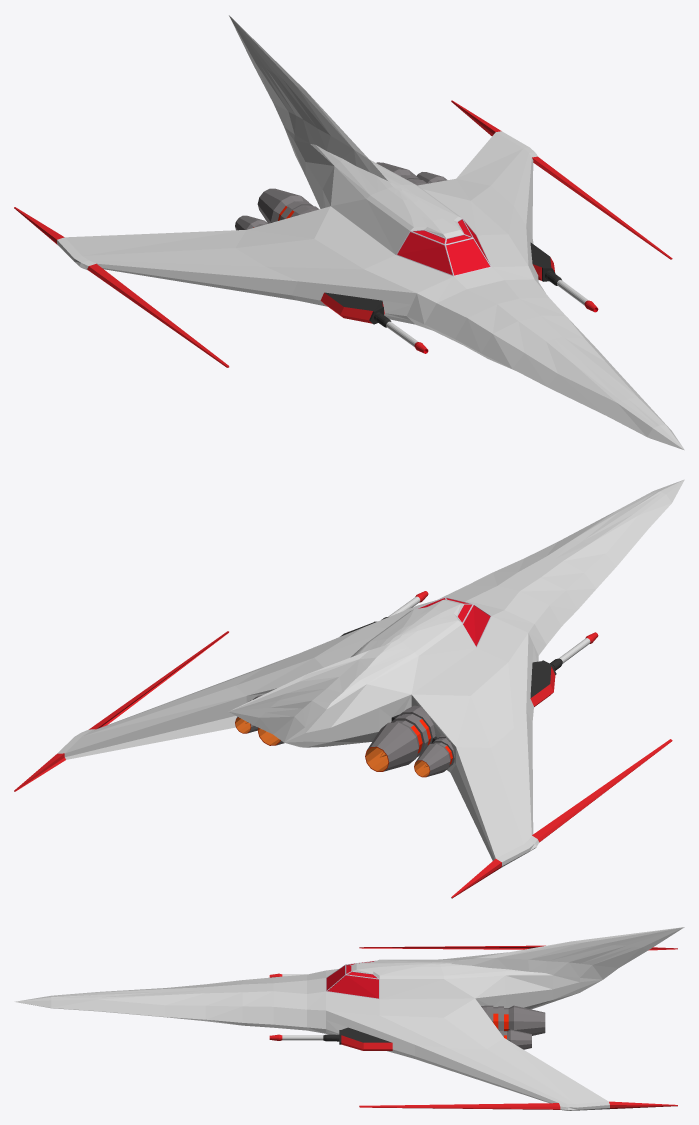
Rendered from Player Ship_Textured.dae.
3 views of the same model, one above another, from view 1: azimuth 30°, elevation 25°; view 2: azimuth 150°, elevation 25°; view 3: azimuth 270°, elevation 25° (orthographic). The views are drawn at different scales.
Visible parts, largest first — view 1: Player_Ship; view 2: Player_Ship; view 3: Player_Ship.
Part boxes in pixels (bbox=[...]): Player_Ship: bbox=[14, 15, 684, 450]; Player_Ship: bbox=[14, 479, 684, 898]; Player_Ship: bbox=[14, 927, 684, 1110].
Bounding box in the file's own units: 16.82 × 29.07 × 4.92.
